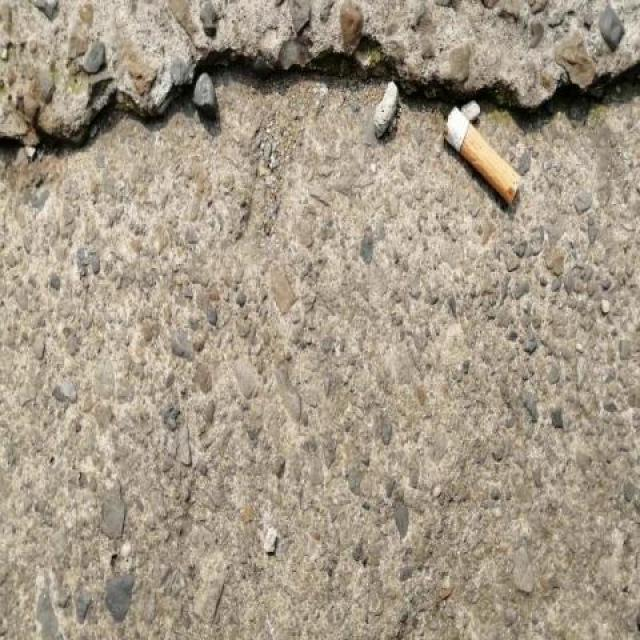non-organic waste: (437, 102, 526, 211)
